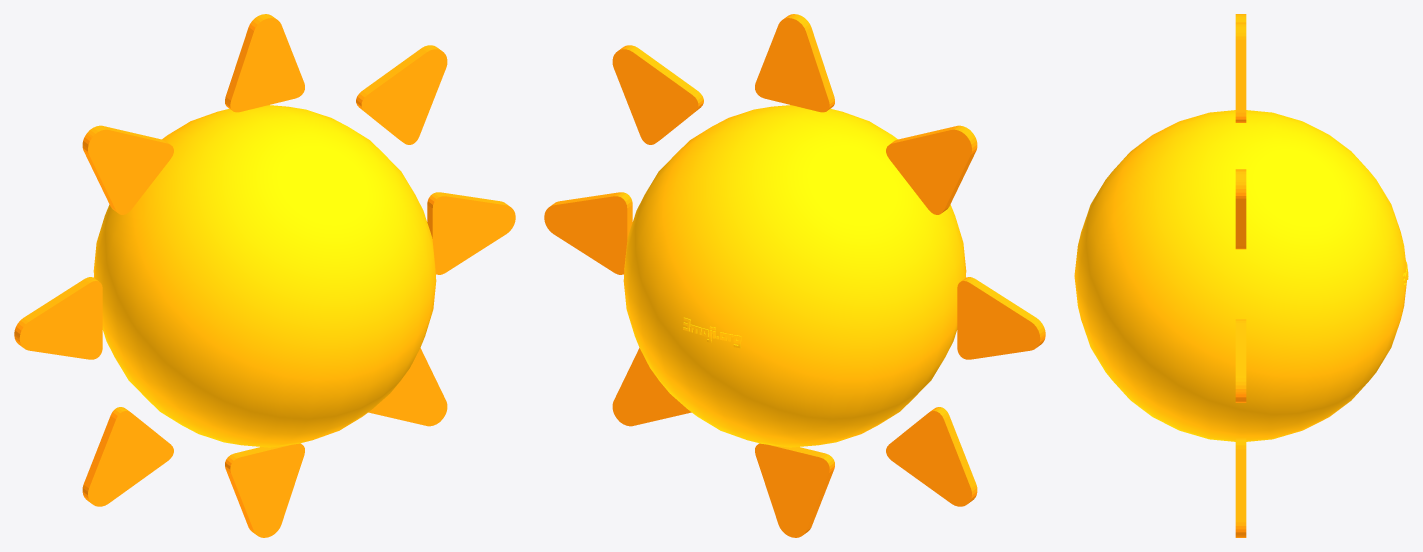
File: sun.gltf
The picture shows the model from 3 angles, left to right: view 1: azimuth 30°, elevation 25°; view 2: azimuth 150°, elevation 25°; view 3: azimuth 270°, elevation 25°; orthographic projection. The views are drawn at different scales.
Parts seen in each view (by area): view 1: Cube.192; view 2: Cube.192; view 3: Cube.192.
Part boxes in pixels (x1,y1,x2,y2): Cube.192: [14, 14, 515, 537]; Cube.192: [544, 14, 1045, 537]; Cube.192: [1074, 14, 1408, 537].
Size of the model in its own units: 2.28 by 2.28 by 1.37.
Materials: 1 (1 with a texture image).
